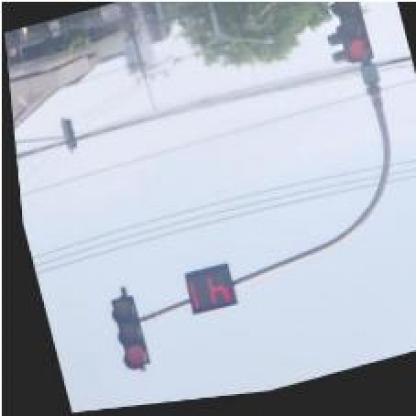red: (100, 295, 142, 372), (329, 1, 371, 72)
